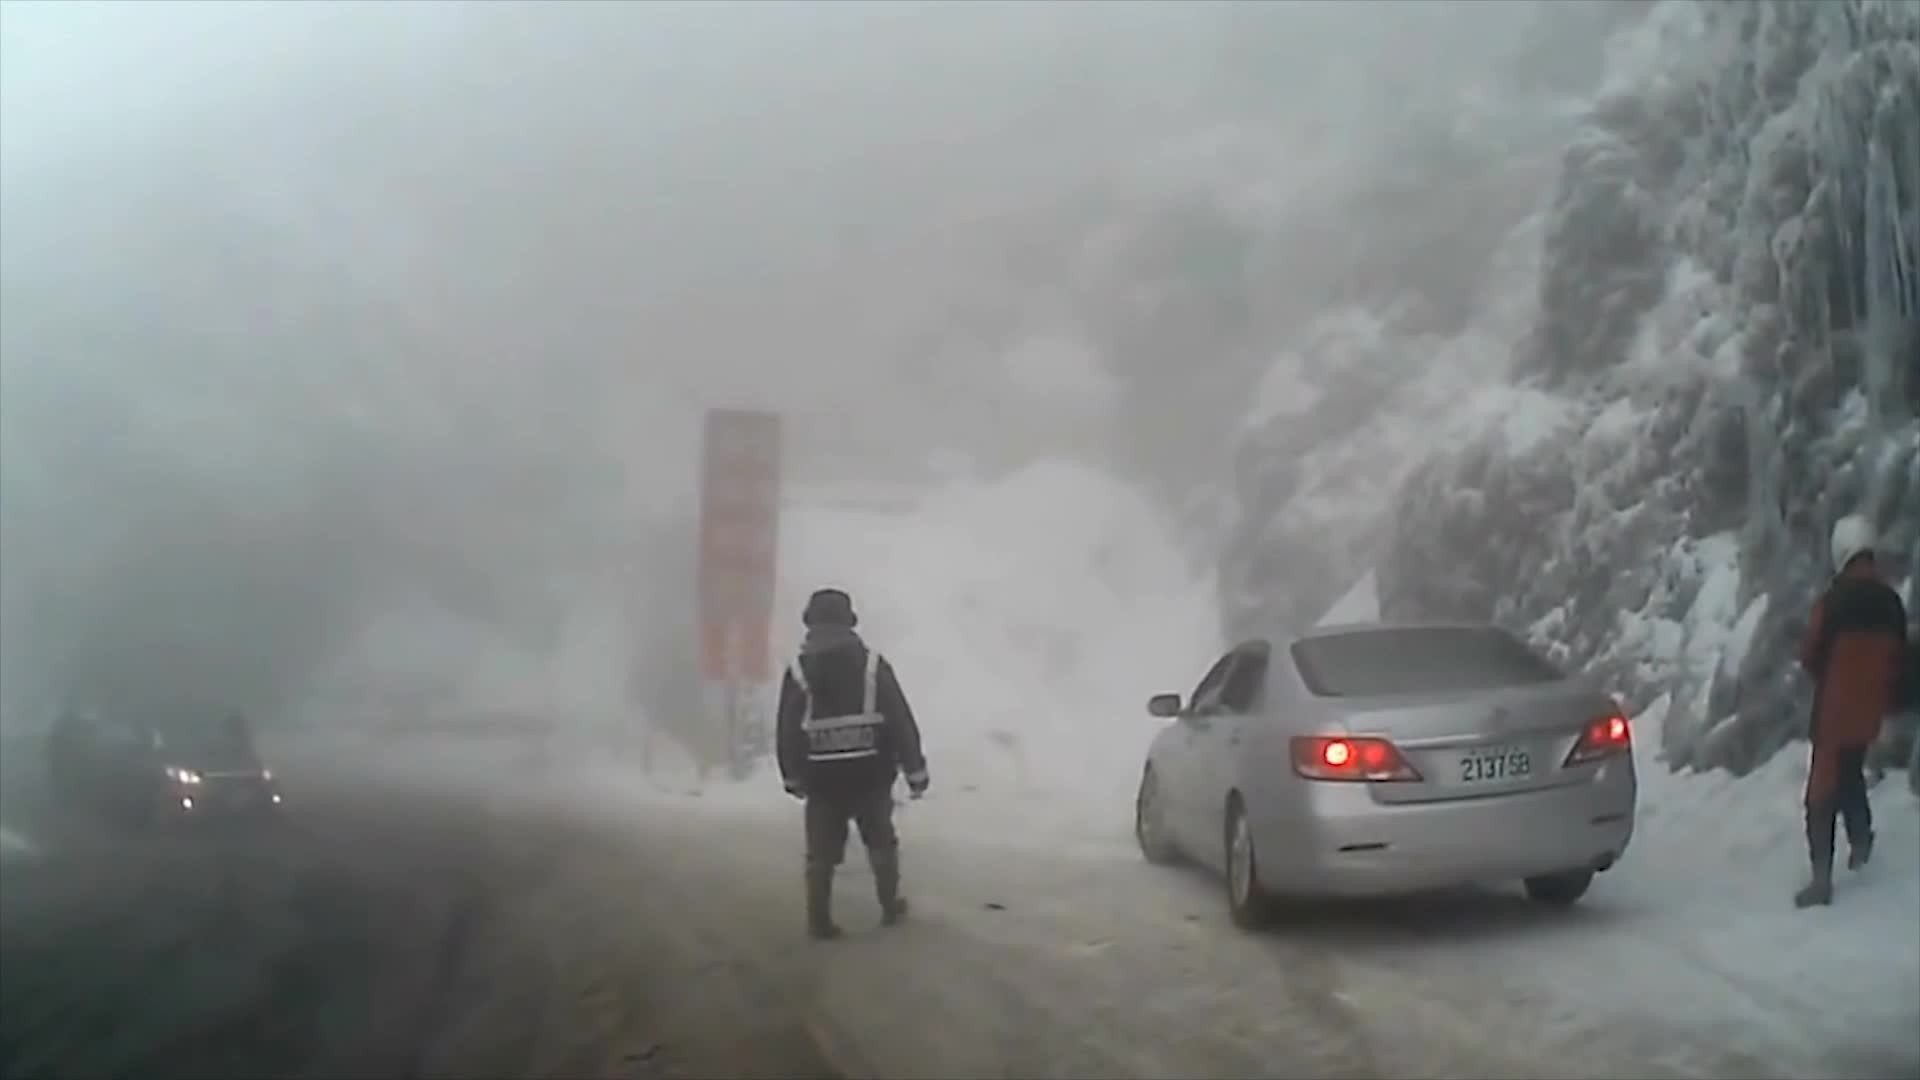pedestrian: (777, 587, 934, 941), (1795, 513, 1914, 911)
vehicle: (1134, 623, 1638, 932), (64, 700, 279, 833)
